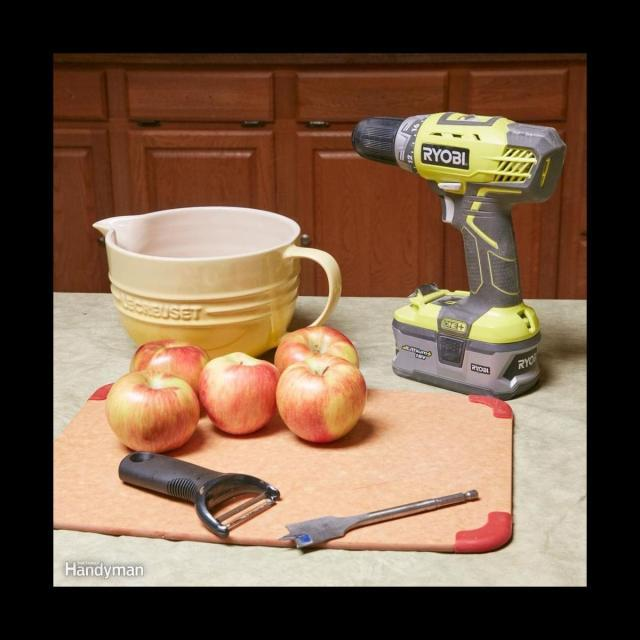drill: (350, 112, 565, 402)
